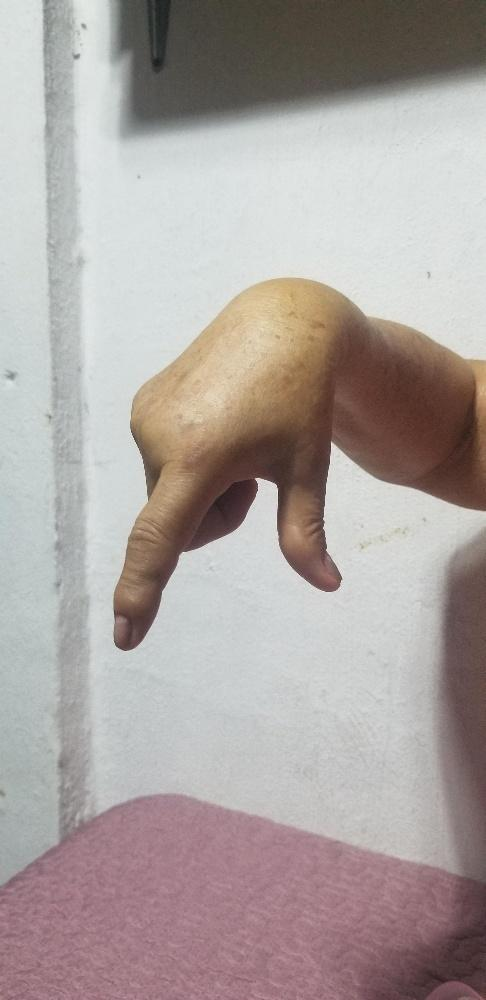q: (109, 328, 344, 651)
